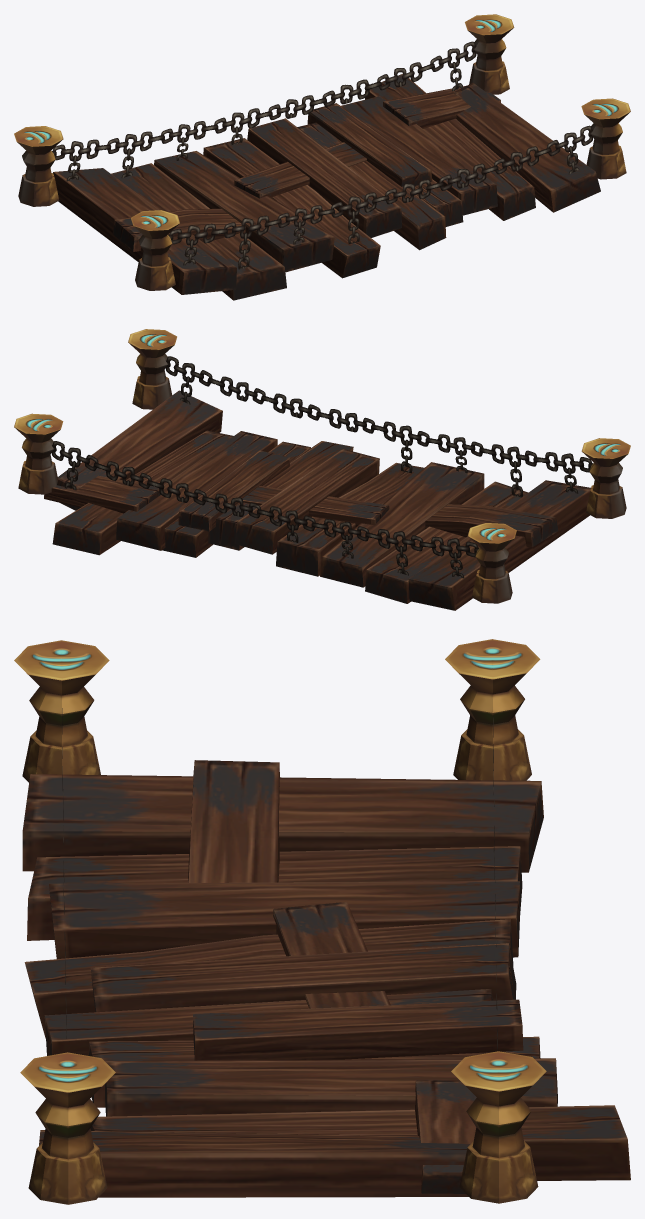
File: Qiao01.FBX
3 renders of one model, top to bottom at view 1: azimuth 30°, elevation 25°; view 2: azimuth 150°, elevation 25°; view 3: azimuth 270°, elevation 25°, orthographic. The views are drawn at different scales.
Visible parts, largest first — view 1: Qiao01; view 2: Qiao01; view 3: Qiao01.
Boxes of the visible parts, x1,y1,x2,y2 form: Qiao01: (14,14,630,300); Qiao01: (14,329,630,610); Qiao01: (14,639,630,1204).
Bounding box in the file's own units: 322 × 59.78 × 185.
